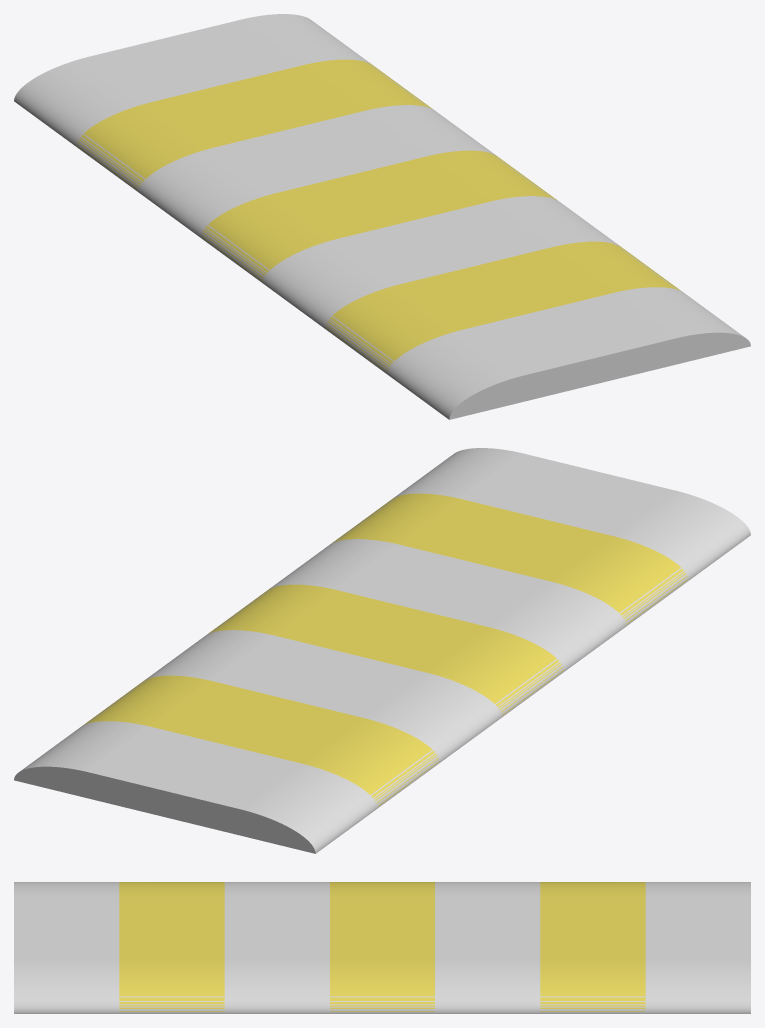
The model's file is Bump.fbx.
The picture shows the model from 3 angles, top to bottom: view 1: azimuth 30°, elevation 25°; view 2: azimuth 150°, elevation 25°; view 3: azimuth 270°, elevation 25°; orthographic projection. The views are drawn at different scales.
Parts seen in each view (by area): view 1: 큐브_큐브.001; view 2: 큐브_큐브.001; view 3: 큐브_큐브.001.
Part boxes in pixels (x1,y1,x2,y2): 큐브_큐브.001: [14, 14, 750, 419]; 큐브_큐브.001: [14, 448, 750, 853]; 큐브_큐브.001: [14, 882, 750, 1013].
Size of the model in its own units: 6 by 0.5 by 15.
